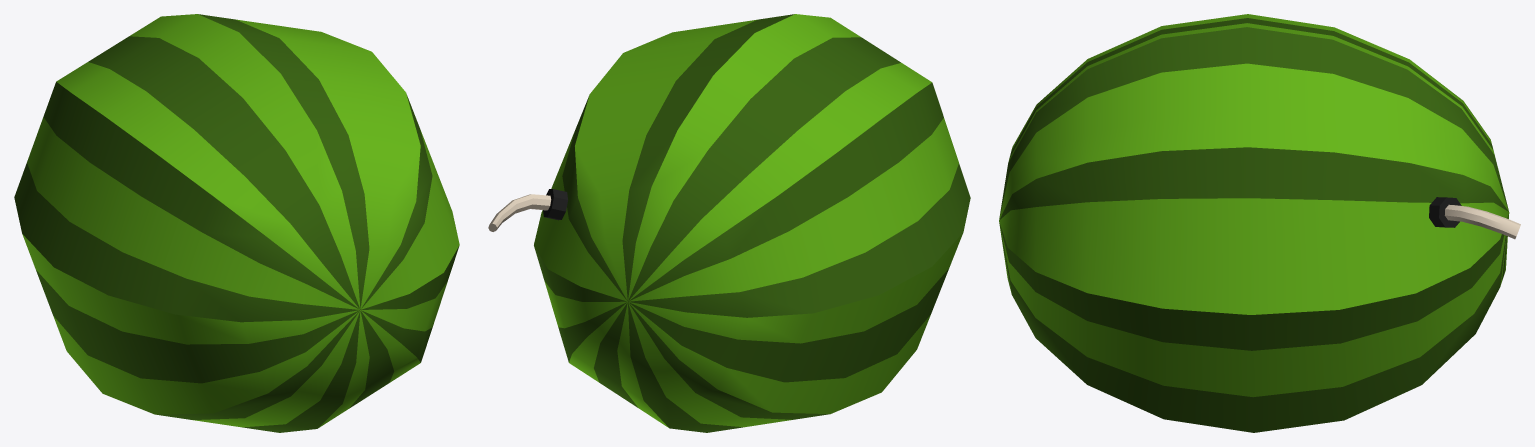
File: melomb.fbx
3 renders of one model, left to right at view 1: azimuth 30°, elevation 25°; view 2: azimuth 150°, elevation 25°; view 3: azimuth 270°, elevation 25°, orthographic. The views are drawn at different scales.
Parts seen in each view (by area): view 1: Melomb; view 2: Melomb; view 3: Melomb.
Boxes of the visible parts, bbox=[...] form: Melomb: bbox=[14, 14, 459, 432]; Melomb: bbox=[488, 14, 970, 432]; Melomb: bbox=[999, 14, 1520, 432].
Size of the model in its own units: 29.24 by 29.22 by 35.19.
